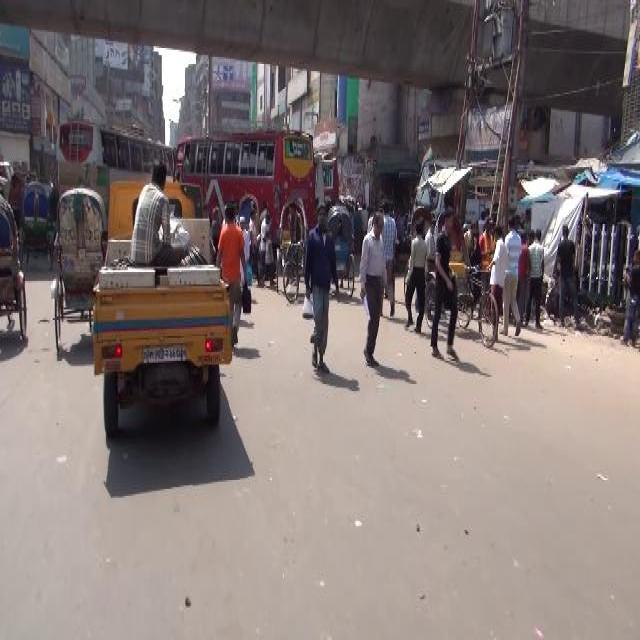11: (88, 169, 235, 450)
13: (48, 181, 108, 370), (428, 210, 498, 354), (15, 178, 56, 281), (274, 197, 308, 304), (326, 203, 356, 302)
Truck: (174, 134, 316, 246), (54, 116, 180, 186)
